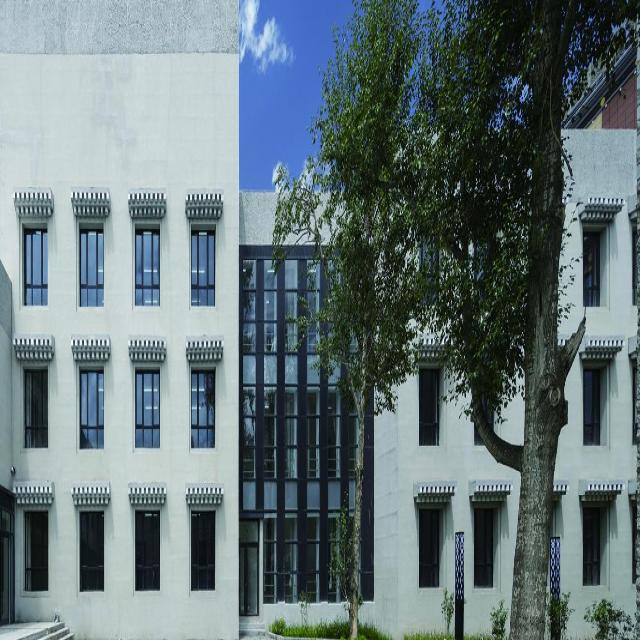door: (238, 520, 259, 616)
plant: (419, 0, 640, 639), (271, 0, 437, 639)
wall: (0, 1, 640, 639)
windows: (264, 258, 277, 602), (306, 388, 321, 604), (285, 388, 298, 604), (243, 257, 255, 477), (189, 365, 216, 448), (21, 513, 48, 596), (21, 226, 48, 308), (135, 224, 162, 306), (21, 367, 48, 449), (78, 362, 105, 444), (135, 511, 162, 593), (190, 224, 216, 307), (79, 508, 105, 591), (79, 222, 105, 304), (79, 221, 105, 303), (135, 365, 161, 447), (190, 512, 216, 594), (474, 508, 494, 586), (418, 369, 438, 446), (418, 509, 438, 586), (584, 512, 600, 584), (328, 392, 341, 477), (584, 236, 600, 305), (584, 371, 600, 440), (286, 259, 298, 311)
